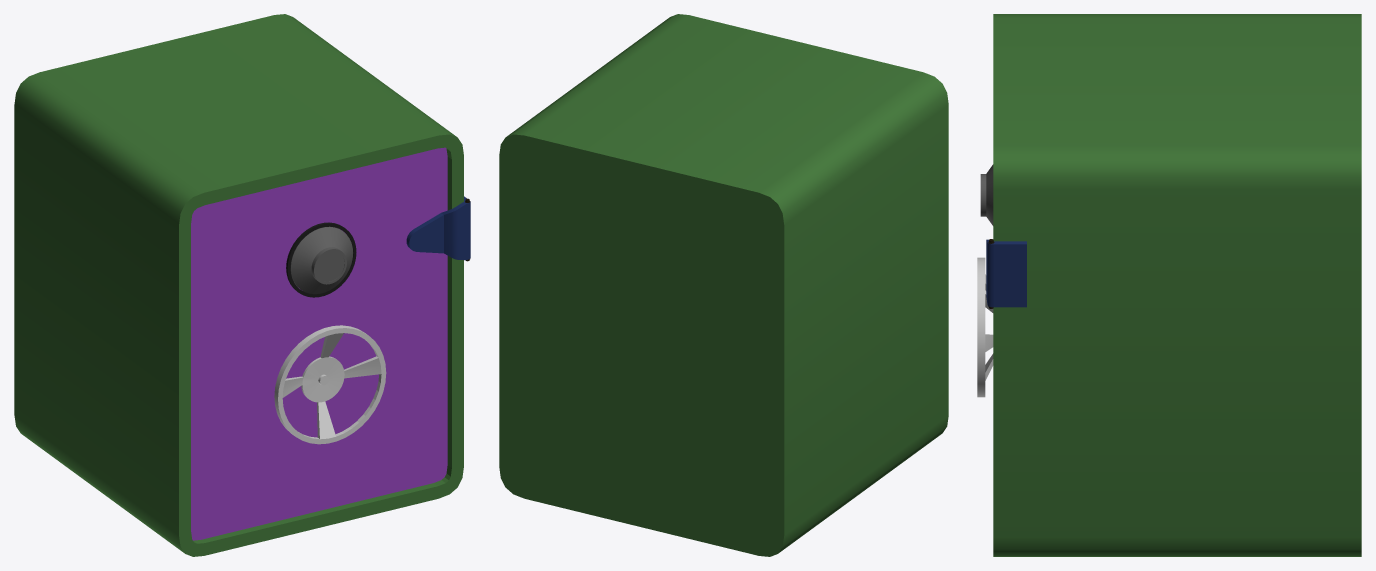
The model's file is strongbox.fbx.
3 views of the same model, side by side, from view 1: azimuth 30°, elevation 25°; view 2: azimuth 150°, elevation 25°; view 3: azimuth 270°, elevation 25° (orthographic). The views are drawn at different scales.
Parts seen in each view (by area): view 1: Box001, Cylinder001, Cylinder002; view 2: Box001; view 3: Box001, Line001, Cylinder001, Cylinder002.
Boxes of the visible parts, left/top/right/bottom form: Box001: left=14, top=14, right=463, bottom=556; Cylinder001: left=191, top=147, right=470, bottom=540; Cylinder002: left=290, top=226, right=352, bottom=293; Box001: left=499, top=14, right=948, bottom=556; Box001: left=993, top=14, right=1361, bottom=556; Line001: left=993, top=241, right=1026, bottom=307; Cylinder001: left=977, top=239, right=994, bottom=397; Cylinder002: left=980, top=164, right=993, bottom=225.
Bounding box in the file's own units: 51.9 × 61.94 × 53.12.
